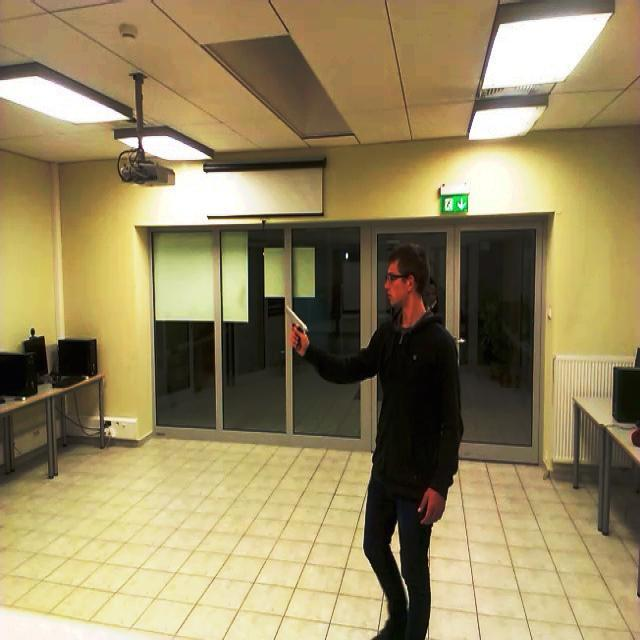Gun: (269, 303, 315, 357)
